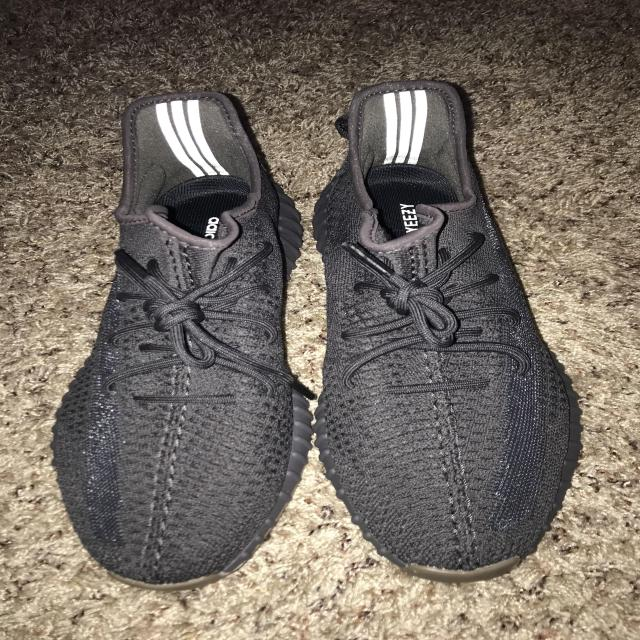shoe: (314, 79, 586, 589), (50, 88, 309, 594)
